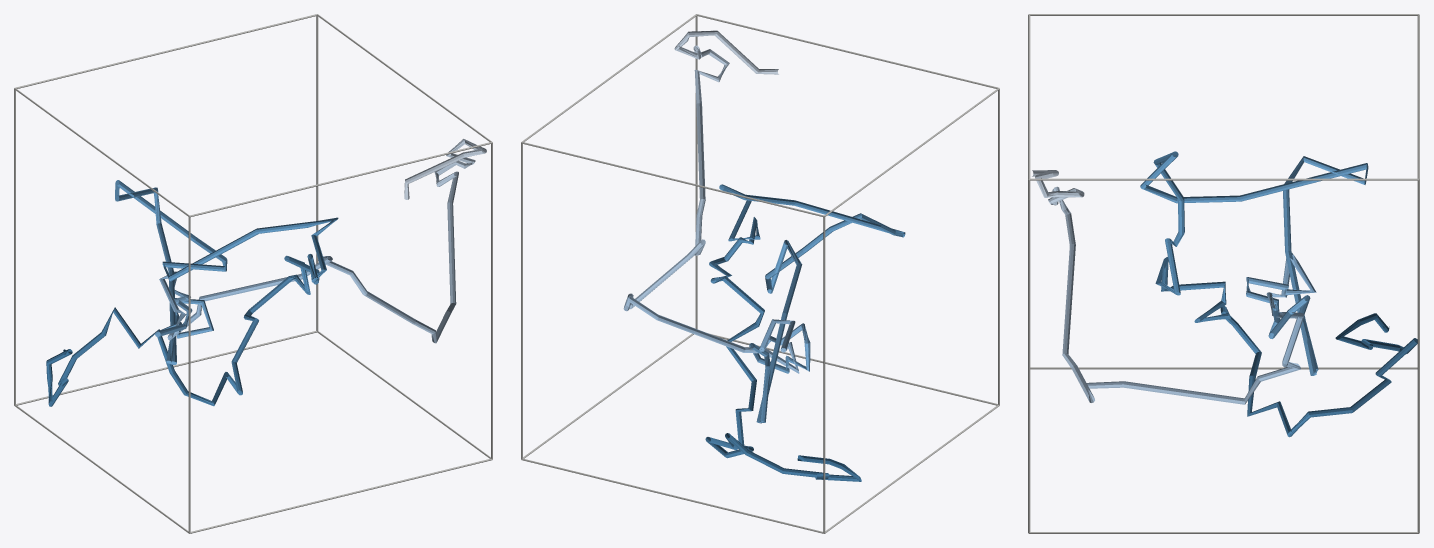
3 views of the same model, side by side, from view 1: azimuth 30°, elevation 25°; view 2: azimuth 150°, elevation 25°; view 3: azimuth 270°, elevation 25° (orthographic). The views are drawn at different scales.
Visible parts, largest first — view 1: geometry_0, geometry_1; view 2: geometry_0, geometry_1; view 3: geometry_0, geometry_1.
Part boxes in pixels (x1,y1,x2,y2): geometry_0: (46,139,486,406); geometry_1: (14,14,492,533); geometry_0: (623,30,905,481); geometry_1: (521,14,999,533); geometry_0: (1032,151,1417,437); geometry_1: (1028,14,1419,533).
Size of the model in its own units: 0.3028 by 0.3014 by 0.3016.
